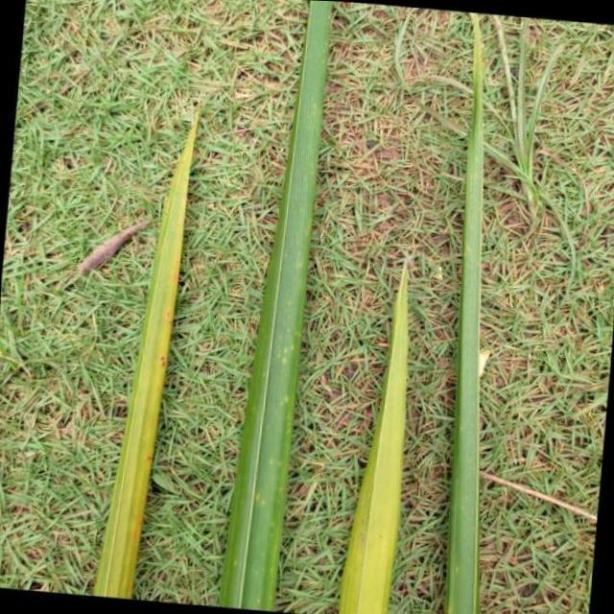nitrogen: (220, 0, 336, 614), (91, 91, 200, 614), (442, 3, 488, 614), (332, 249, 408, 614)
